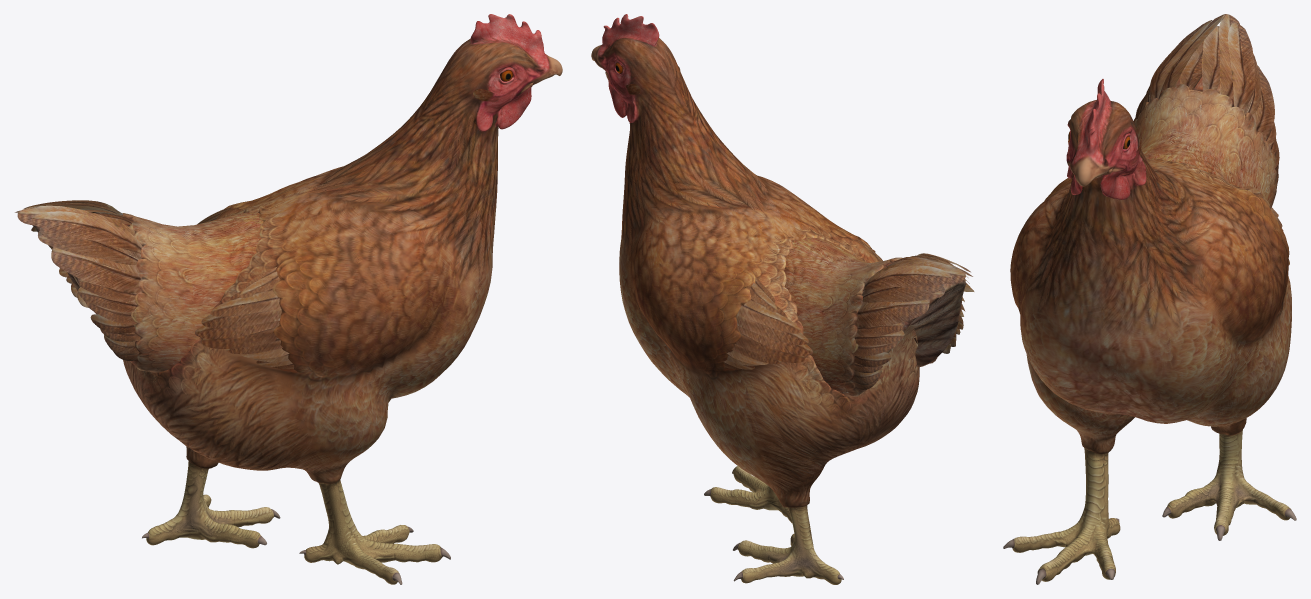
The model's file is chicken_realistic.glb.
3 renders of one model, left to right at view 1: azimuth 30°, elevation 25°; view 2: azimuth 150°, elevation 25°; view 3: azimuth 270°, elevation 25°, orthographic. The views are drawn at different scales.
Visible parts, largest first — view 1: node_id53; view 2: node_id53; view 3: node_id53.
Boxes of the visible parts, bbox=[...] form: node_id53: bbox=[15, 14, 562, 584]; node_id53: bbox=[591, 14, 974, 584]; node_id53: bbox=[1003, 14, 1296, 584].
Bounding box in the file's own units: 0.5026 × 0.512 × 0.2494.
Materials: 1 (1 with a texture image).
